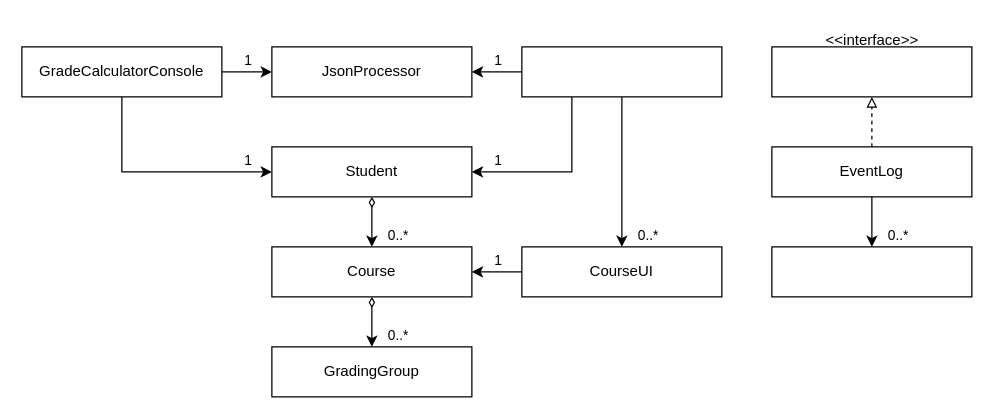
Image size: 994x419. Some labels were removed from this diagram. Here are the shapes that lost their labels. From the top down, the box of each, then its label:
(521, 46, 722, 97): MainUI
(771, 46, 972, 97): Iterable<Event>
(771, 246, 972, 297): Event
